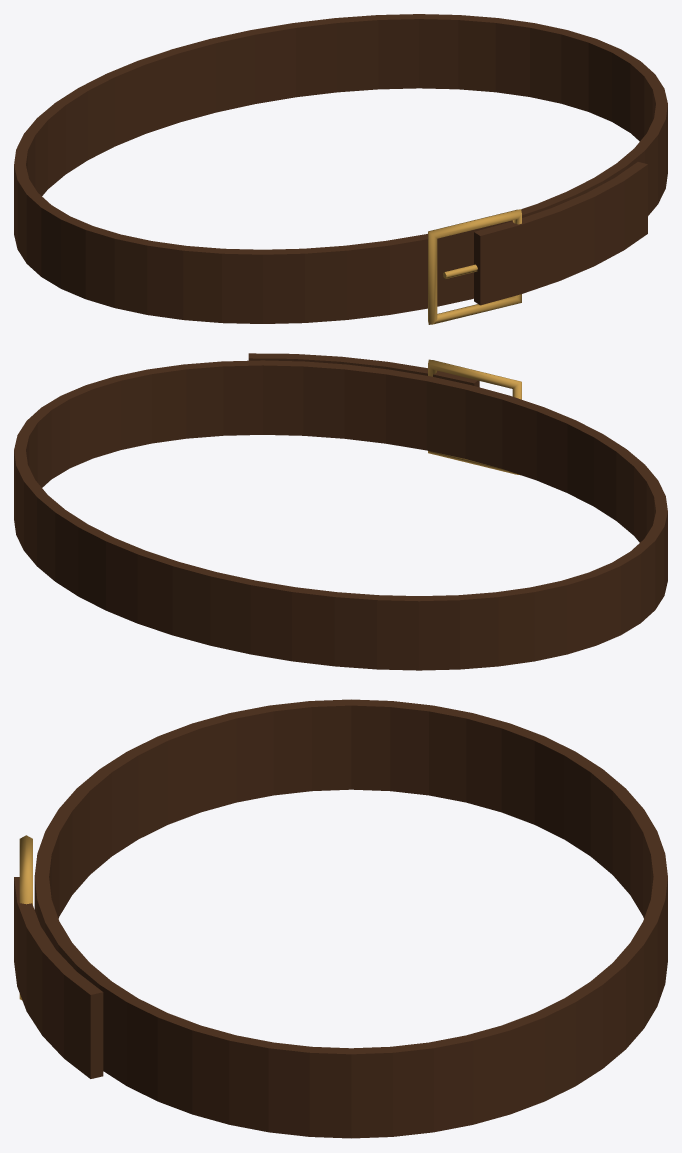
File: belt_leather.glb
3 renders of one model, top to bottom at view 1: azimuth 30°, elevation 25°; view 2: azimuth 150°, elevation 25°; view 3: azimuth 270°, elevation 25°, orthographic. The views are drawn at different scales.
Visible parts, largest first — view 1: Belt_Leather_Leather, Belt_Leather_Brass; view 2: Belt_Leather_Leather, Belt_Leather_Brass; view 3: Belt_Leather_Leather, Belt_Leather_Brass.
Boxes of the visible parts, left/top/right/bottom form: Belt_Leather_Leather: left=14, top=14, right=667, bottom=323; Belt_Leather_Brass: left=428, top=209, right=521, bottom=324; Belt_Leather_Leather: left=14, top=353, right=667, bottom=670; Belt_Leather_Brass: left=428, top=359, right=521, bottom=475; Belt_Leather_Leather: left=14, top=699, right=667, bottom=1138; Belt_Leather_Brass: left=19, top=835, right=32, bottom=1000.
Bounding box in the file's own units: 0.3256 × 0.0483 × 0.2536.
